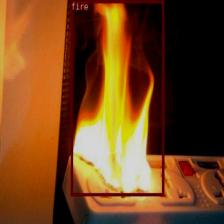fire: (71, 0, 164, 196)
